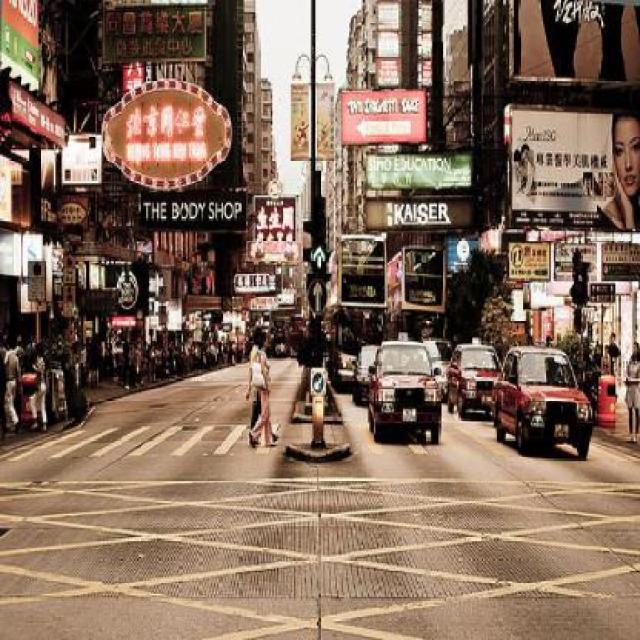Person: (247, 334, 275, 443), (25, 340, 47, 434), (1, 330, 22, 428), (622, 338, 640, 440), (607, 331, 618, 375), (13, 334, 24, 358), (159, 345, 164, 377), (189, 332, 193, 346), (128, 350, 130, 359)
